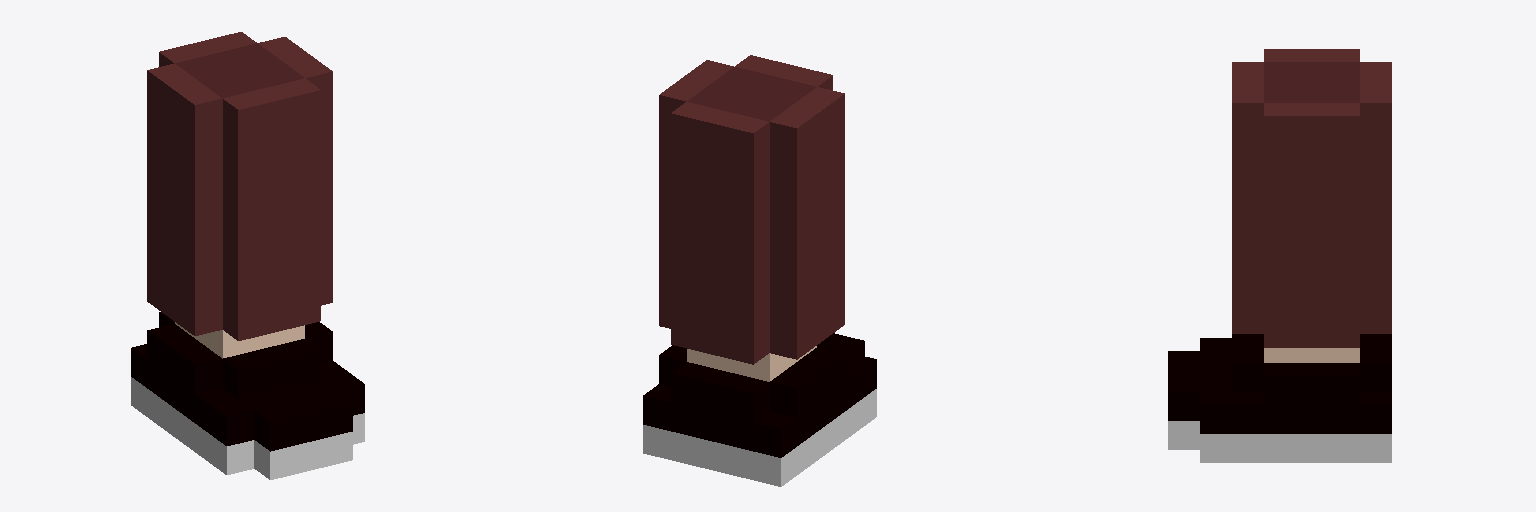
The picture shows the model from 3 angles: view 1: azimuth 30°, elevation 25°; view 2: azimuth 150°, elevation 25°; view 3: azimuth 270°, elevation 25°; orthographic projection.
Visible parts, largest first — view 1: object 1; view 2: object 1; view 3: object 1.
Part boxes in pixels (x1,y1,x2,y2): object 1: (131,32,364,479); object 1: (643,55,876,486); object 1: (1168,49,1391,462).
Size of the model in its own units: 0.5 by 1.2 by 0.7.
Materials: 1 (1 with a texture image).